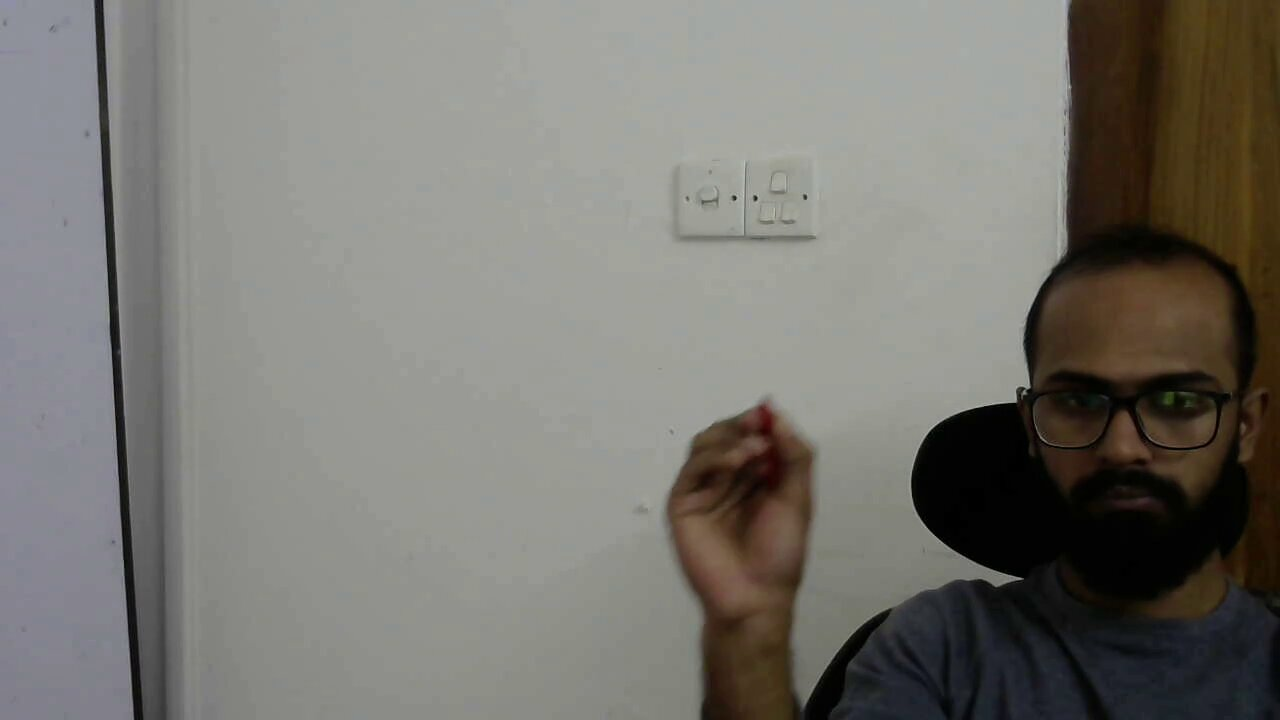pointer: (668, 399, 818, 541)
